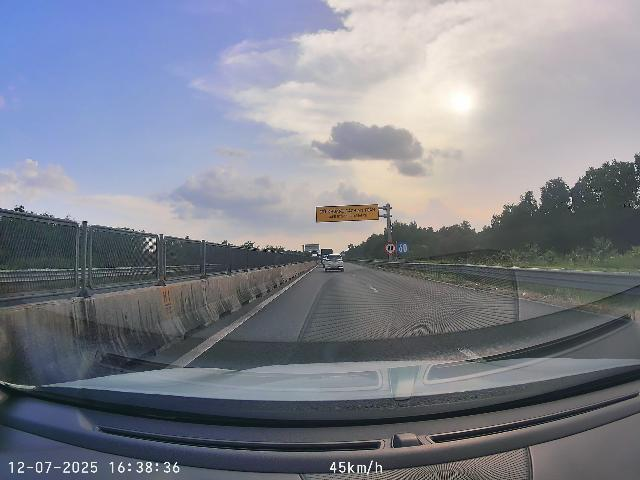127-toc-do-toi-da-90: (384, 242, 396, 255)
306-toc-do-toi-thieu-60: (397, 241, 409, 254)
